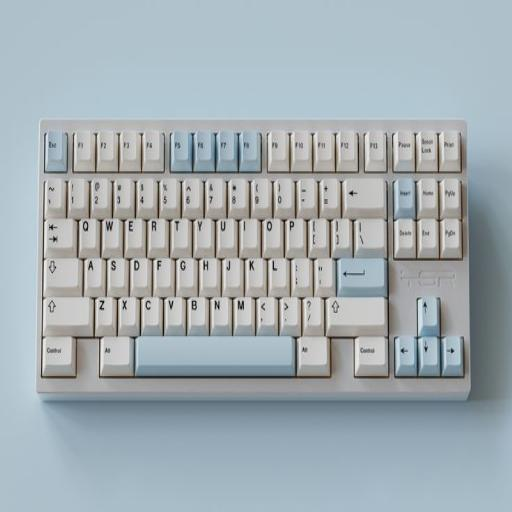KEYBOARD-2: (34, 119, 470, 398)
